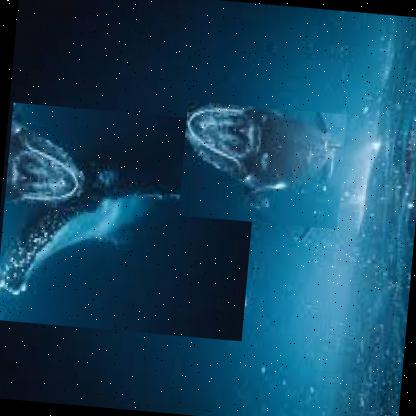blue_whale: (0, 102, 260, 343), (176, 100, 346, 230)
